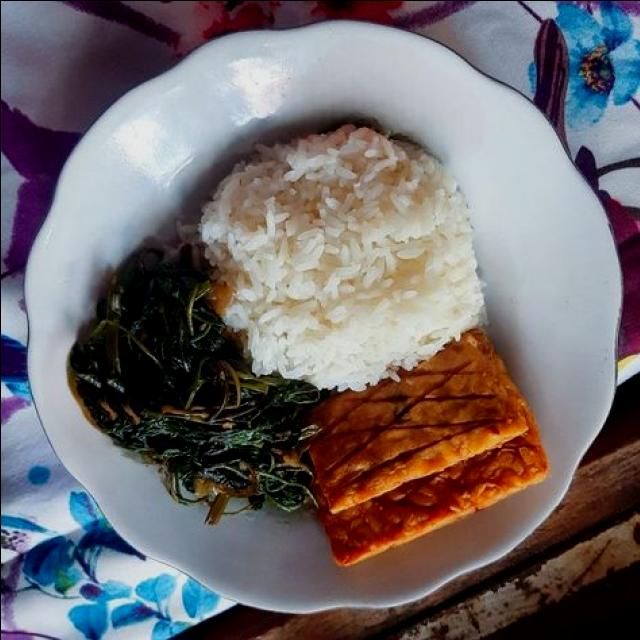nasi: (197, 122, 486, 390)
tempe goreng: (306, 327, 529, 512)
tumis kangkung: (66, 240, 316, 521)
